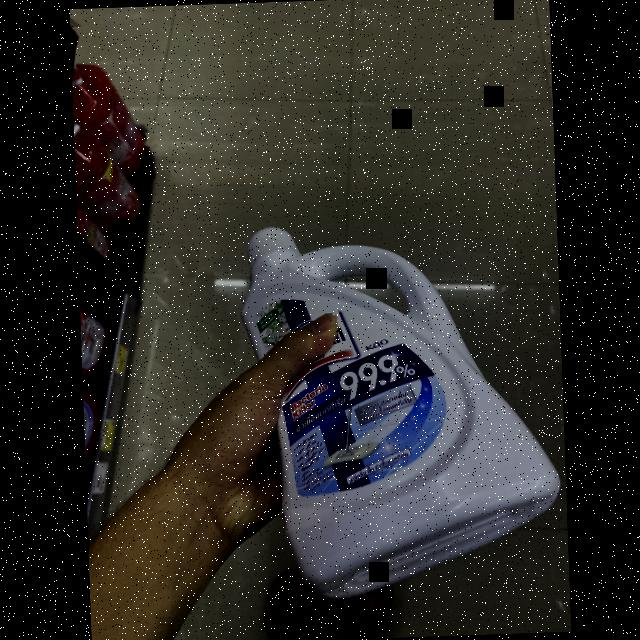chemical_plastic_gallon: (236, 210, 570, 612)
